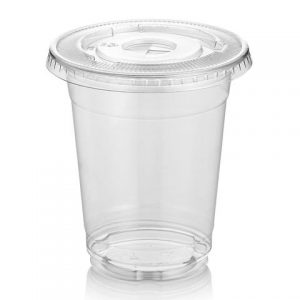plastic: (43, 17, 253, 283)
